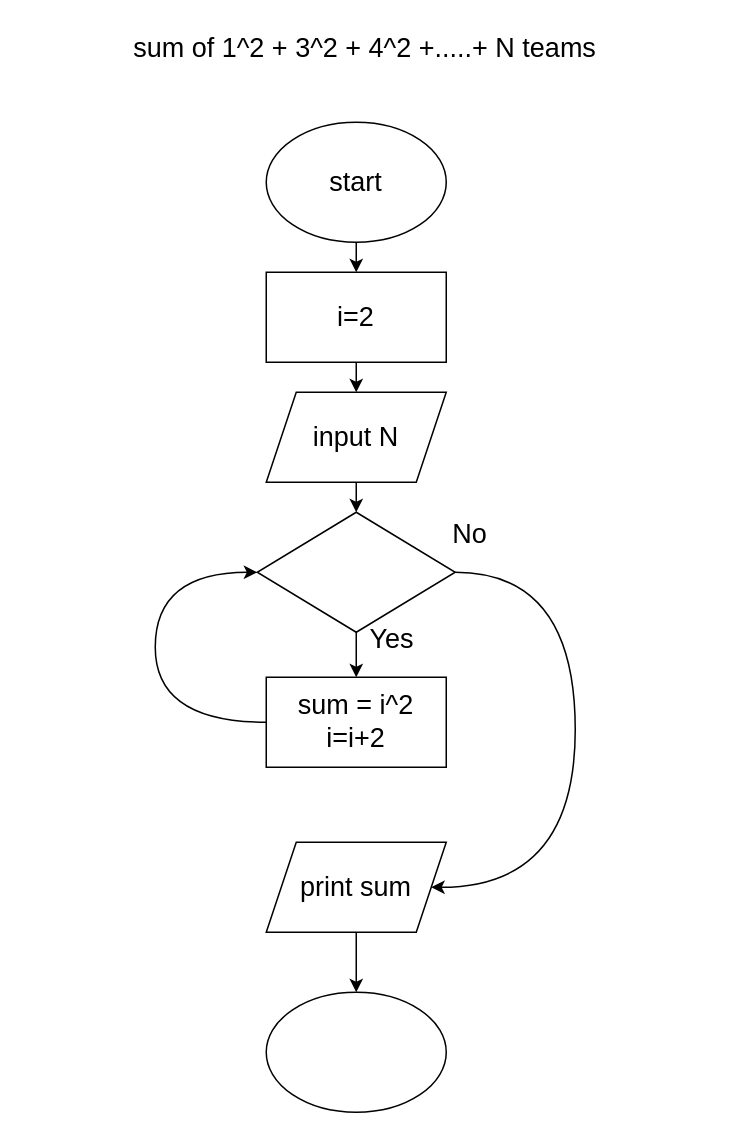
Some shapes in this 729 by 1139 pixel diagram are drawn without their labels. Here are the shapes that lost their labels. From the top down, the box of each, then its label:
(256, 511, 455, 632): i<=N?
(265, 991, 446, 1112): end
